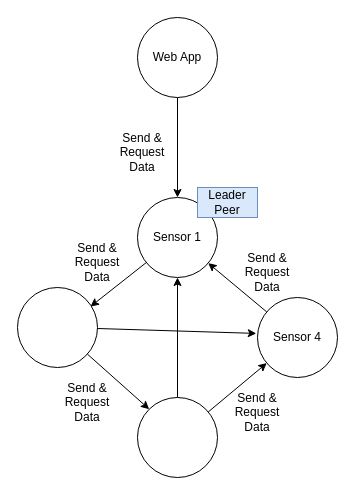
This 355x495 diagram has some shape labels left out. Here are the shapes that lost their labels. From the top down, the centre of each, then its label:
pixel 57 327: Sensor 2
pixel 177 437: Sensor 3
